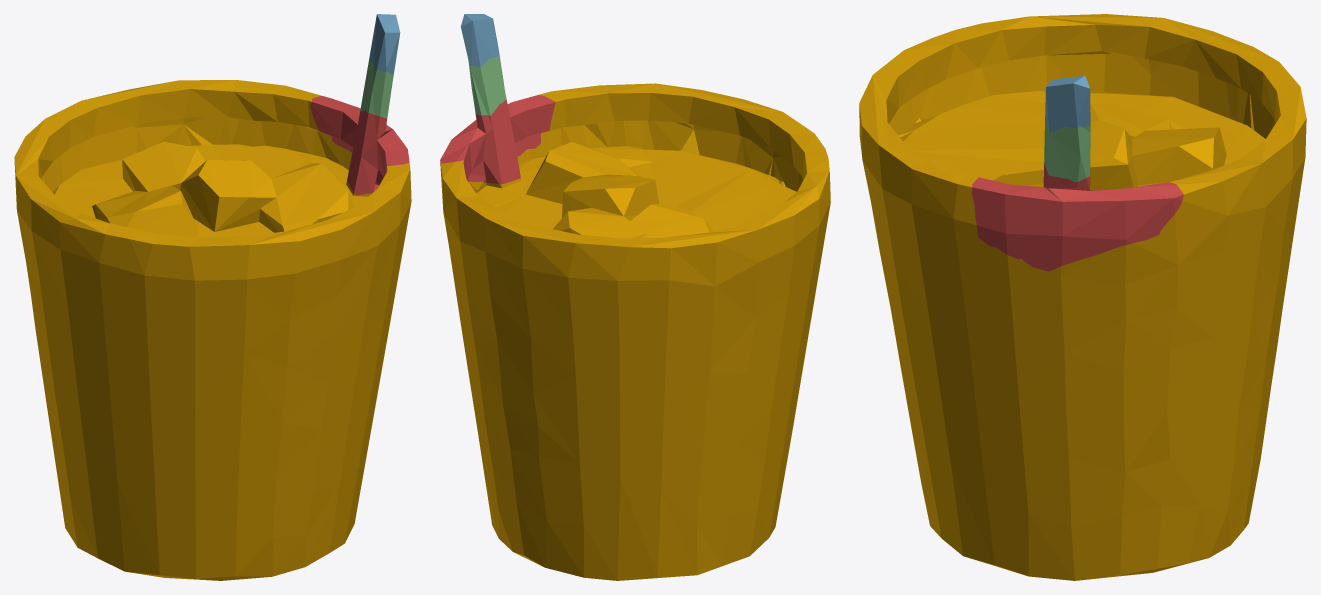
File: fractured_72_4pcs.glb
3 views of the same model, side by side, from view 1: azimuth 30°, elevation 25°; view 2: azimuth 150°, elevation 25°; view 3: azimuth 270°, elevation 25° (orthographic). The views are drawn at different scales.
Parts seen in each view (by area): view 1: piece_0.obj, piece_1.obj, piece_2.obj, piece_3.obj; view 2: piece_0.obj, piece_1.obj, piece_3.obj, piece_2.obj; view 3: piece_0.obj, piece_1.obj, piece_3.obj, piece_2.obj.
Part boxes in pixels (box(x1,y1,x2,y2)): piece_0.obj: box(14, 80, 411, 580); piece_1.obj: box(310, 96, 409, 195); piece_2.obj: box(369, 14, 400, 75); piece_3.obj: box(360, 61, 393, 118); piece_0.obj: box(440, 83, 830, 580); piece_1.obj: box(440, 95, 555, 184); piece_3.obj: box(468, 55, 506, 115); piece_2.obj: box(460, 14, 499, 66); piece_0.obj: box(859, 14, 1306, 580); piece_1.obj: box(971, 163, 1183, 271); piece_3.obj: box(1044, 120, 1090, 182); piece_2.obj: box(1045, 75, 1090, 132).
Bounding box in the file's own units: 0.782 × 1 × 0.7671.
